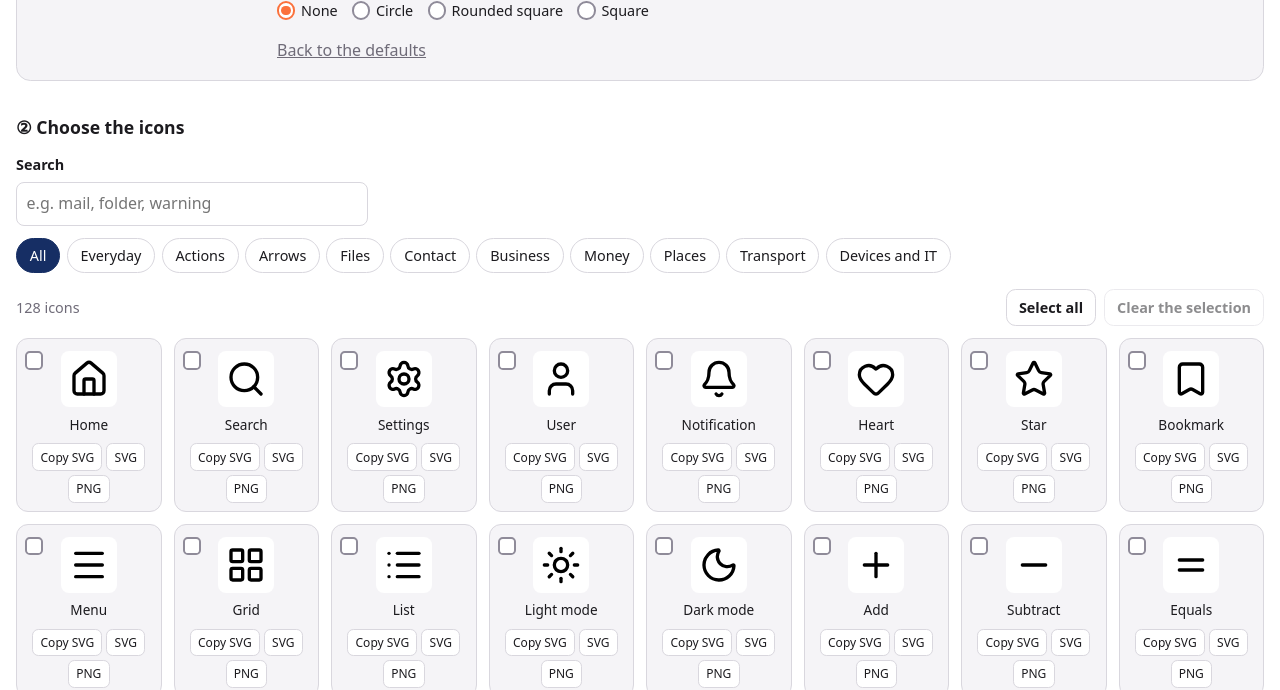
Test: IconGeneratorTool › multiplies the file count by the PNG sizes
This screenshot has width=1280, height=690.
(page scrolled)
Click the checkbox labelled "Home".
click(34, 360)  # box [25, 351, 43, 370]
(page scrolled)
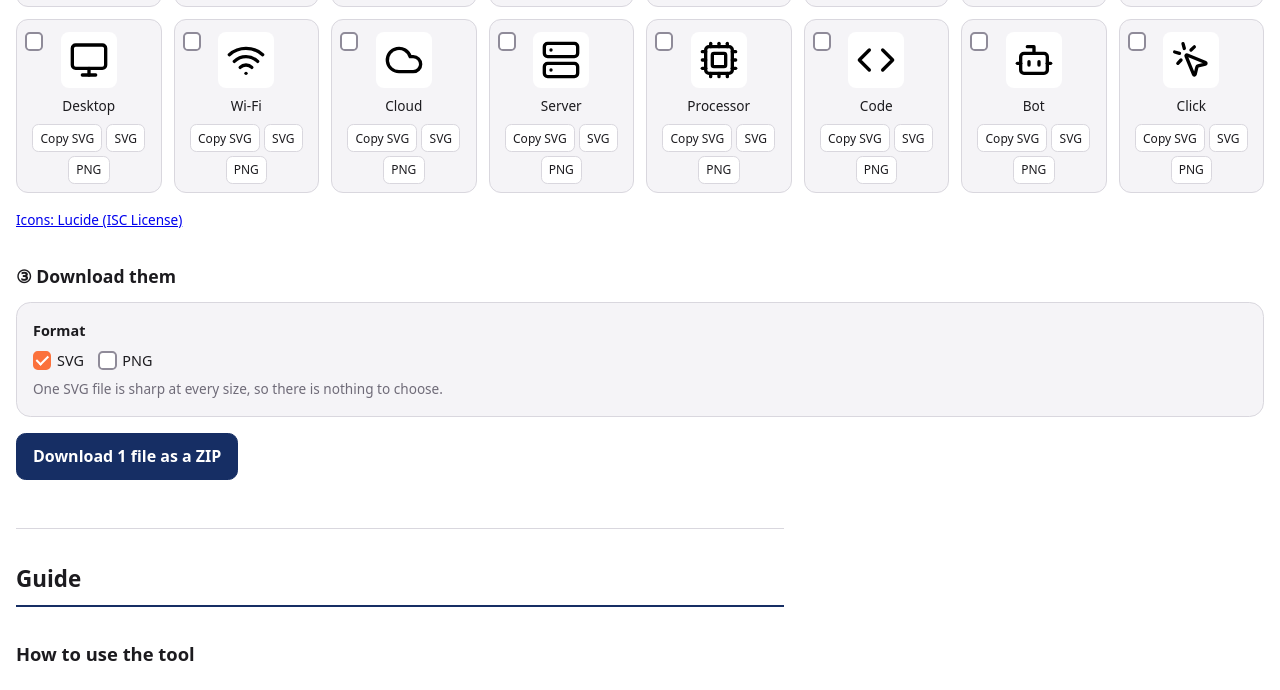
Click the checkbox labelled "PNG".
click(108, 360)  # box [98, 351, 117, 370]
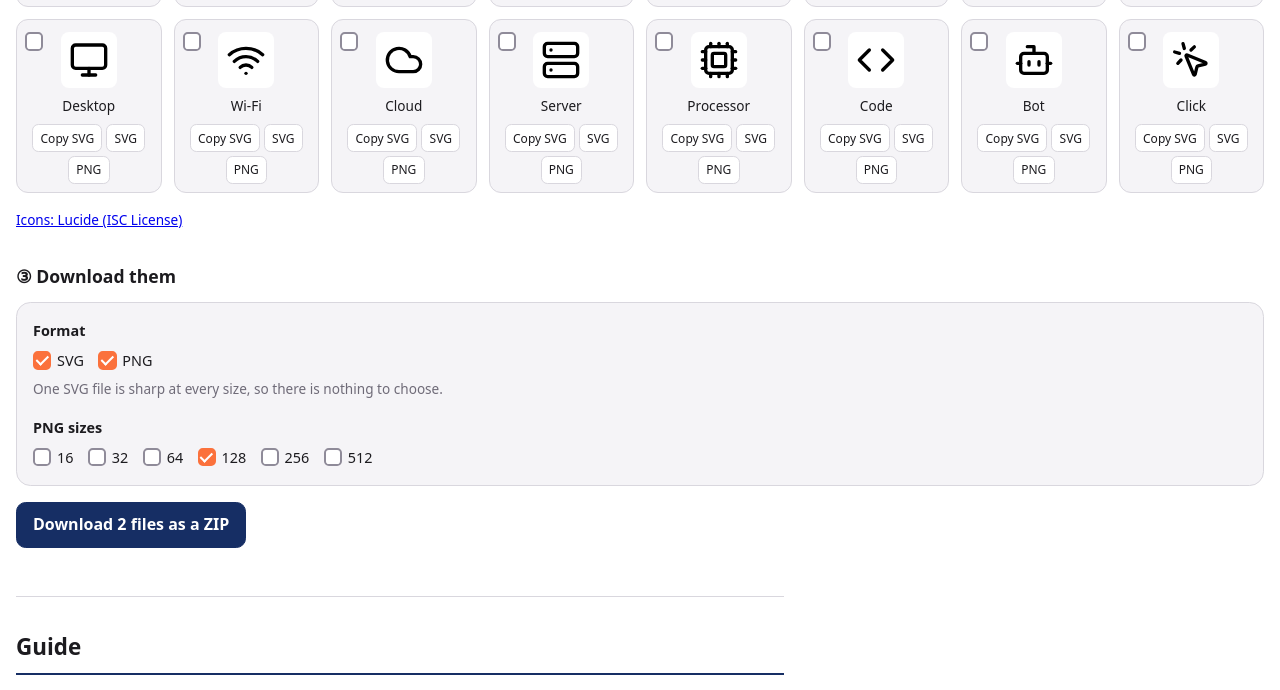
Click the checkbox labelled "32".
click(97, 457)  # box [88, 448, 106, 466]
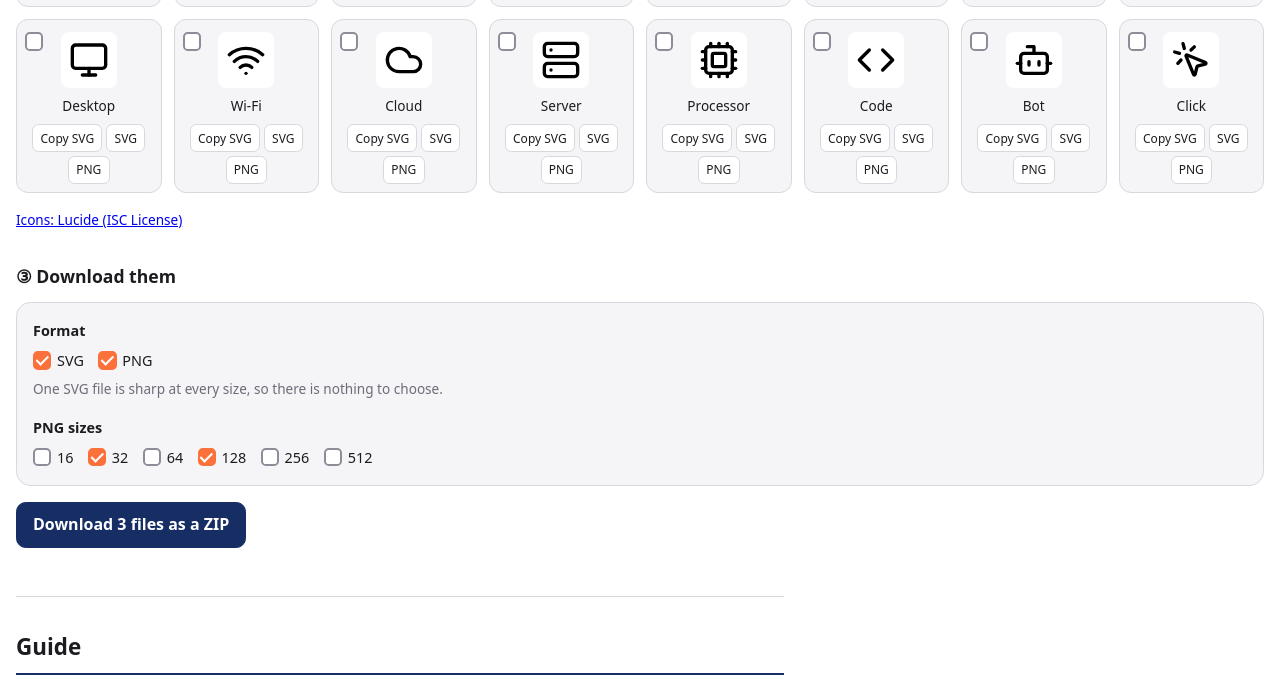
Result: the button "Download 3 files as a ZIP" is shown at [16, 502, 246, 548]
